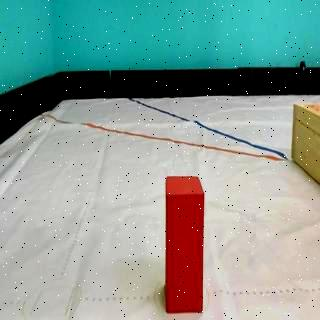redbox: (166, 176, 204, 312)
